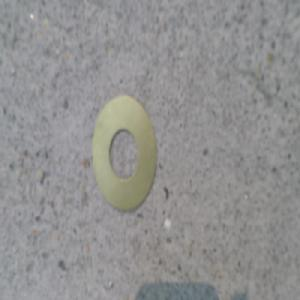Washer: (90, 92, 159, 215)
